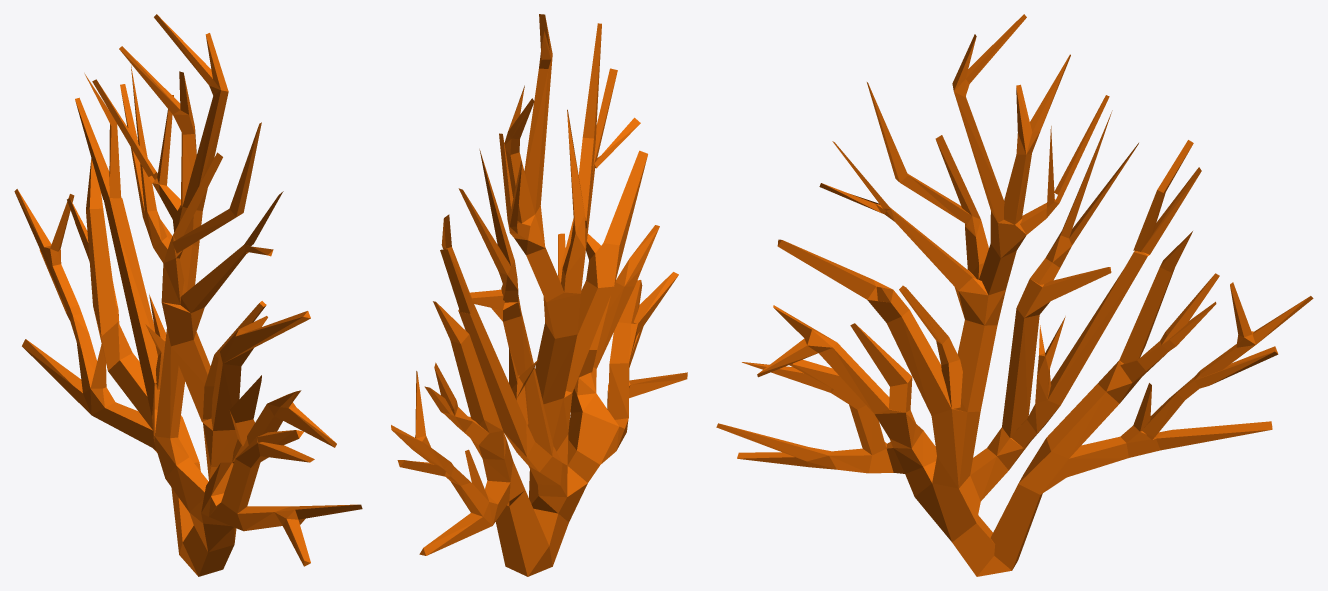
File: Coral4.fbx
3 views of the same model, side by side, from view 1: azimuth 30°, elevation 25°; view 2: azimuth 150°, elevation 25°; view 3: azimuth 270°, elevation 25° (orthographic). The views are drawn at different scales.
Parts seen in each view (by area): view 1: Coral.004; view 2: Coral.004; view 3: Coral.004.
Boxes of the visible parts, bbox=[...] form: Coral.004: bbox=[14, 14, 362, 576]; Coral.004: bbox=[391, 14, 687, 576]; Coral.004: bbox=[716, 14, 1313, 576].
Size of the model in its own units: 6.52 by 47.76 by 47.63.
